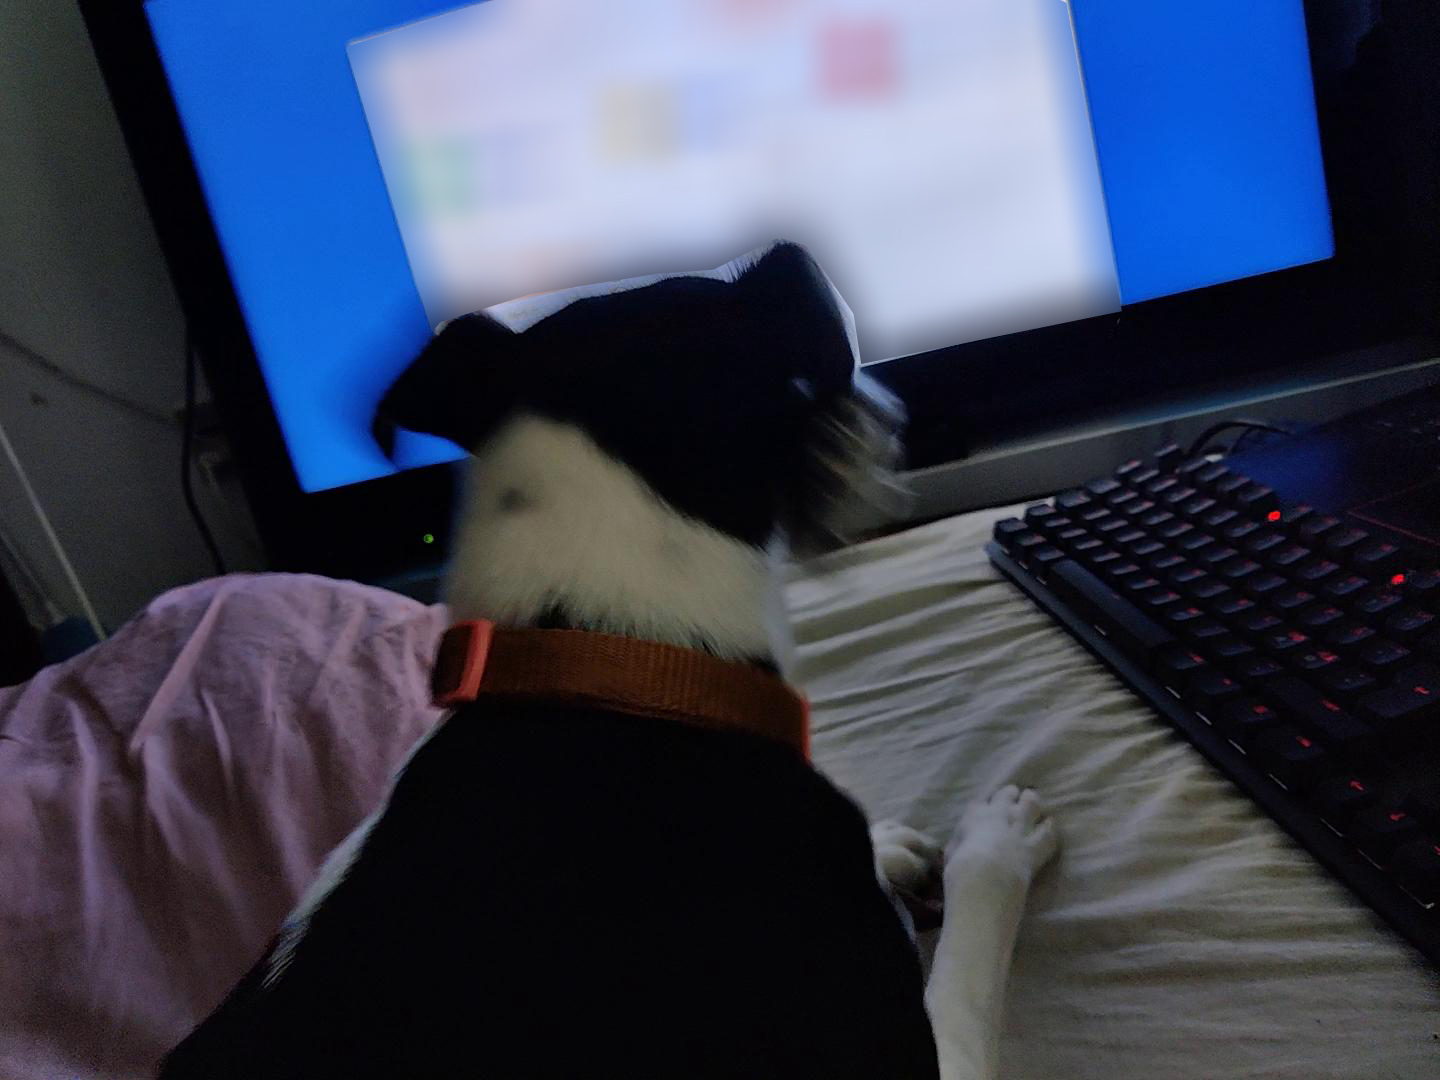Dog: (132, 237, 1074, 1079)
